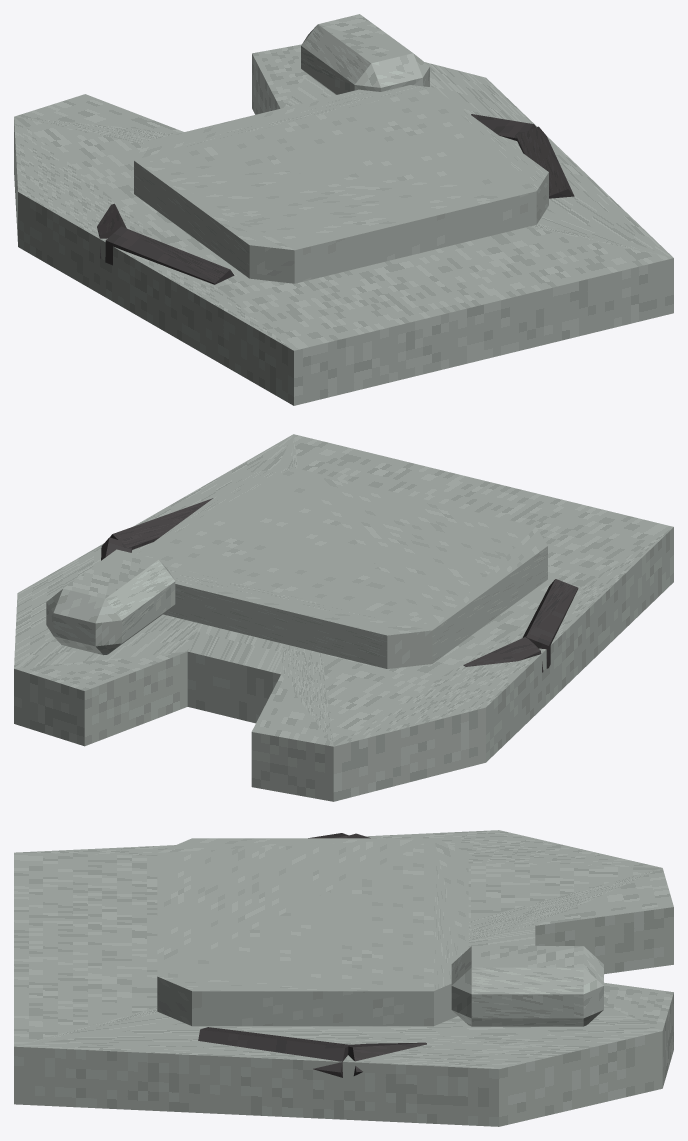
Rendered from ballistic_vest_light_operator.glb.
The picture shows the model from 3 angles, top to bottom: view 1: azimuth 30°, elevation 25°; view 2: azimuth 150°, elevation 25°; view 3: azimuth 270°, elevation 25°; orthographic projection. The views are drawn at different scales.
Parts seen in each view (by area): view 1: block_vest body, block_front protection panel, block_shoulder radio pouch, block_adjustment strap 1 (×2), block_adjustment strap 0 (×2); view 2: block_vest body, block_front protection panel, block_shoulder radio pouch, block_adjustment strap 1 (×2), block_adjustment strap 0; view 3: block_vest body, block_front protection panel, block_shoulder radio pouch, block_adjustment strap 1, block_adjustment strap 0.
Part boxes in pixels (x1,y1,x2,y2): block_vest body: [14, 44, 673, 405]; block_front protection panel: [134, 85, 548, 283]; block_shoulder radio pouch: [301, 14, 429, 94]; block_adjustment strap 1 (×2): [105, 126, 574, 284]; block_adjustment strap 0 (×2): [97, 114, 535, 258]; block_vest body: [14, 434, 673, 801]; block_front protection panel: [137, 467, 547, 668]; block_shoulder radio pouch: [46, 549, 175, 655]; block_adjustment strap 1 (×2): [110, 498, 578, 668]; block_adjustment strap 0: [463, 636, 543, 672]; block_vest body: [14, 830, 673, 1126]; block_front protection panel: [157, 838, 468, 1026]; block_shoulder radio pouch: [451, 946, 603, 1026]; block_adjustment strap 1: [198, 1027, 351, 1077]; block_adjustment strap 0: [348, 1042, 426, 1075].
Bounding box in the file's own units: 0.3701 × 0.0833 × 0.4318.
Materials: 1 (1 with a texture image).
